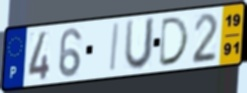2: (192, 11, 219, 66)
4: (27, 29, 52, 82)
6: (57, 26, 83, 80)
D: (157, 15, 191, 69)
I: (108, 21, 122, 74)
U: (122, 15, 157, 72)
